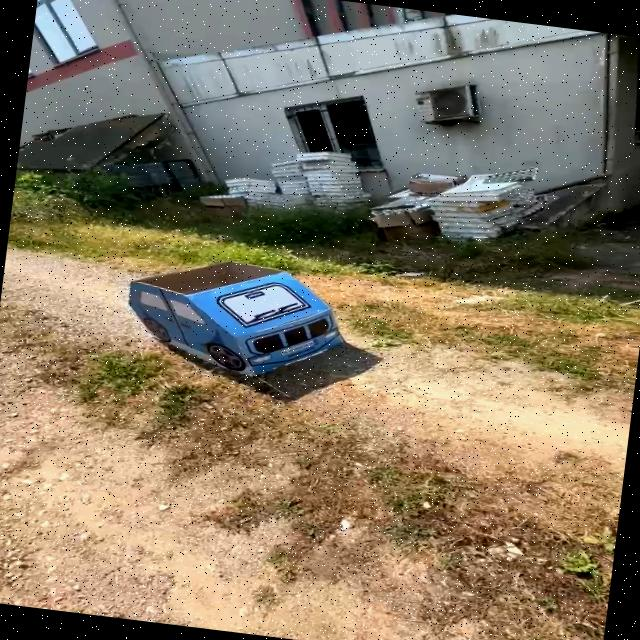blue_car: (104, 233, 366, 395)
